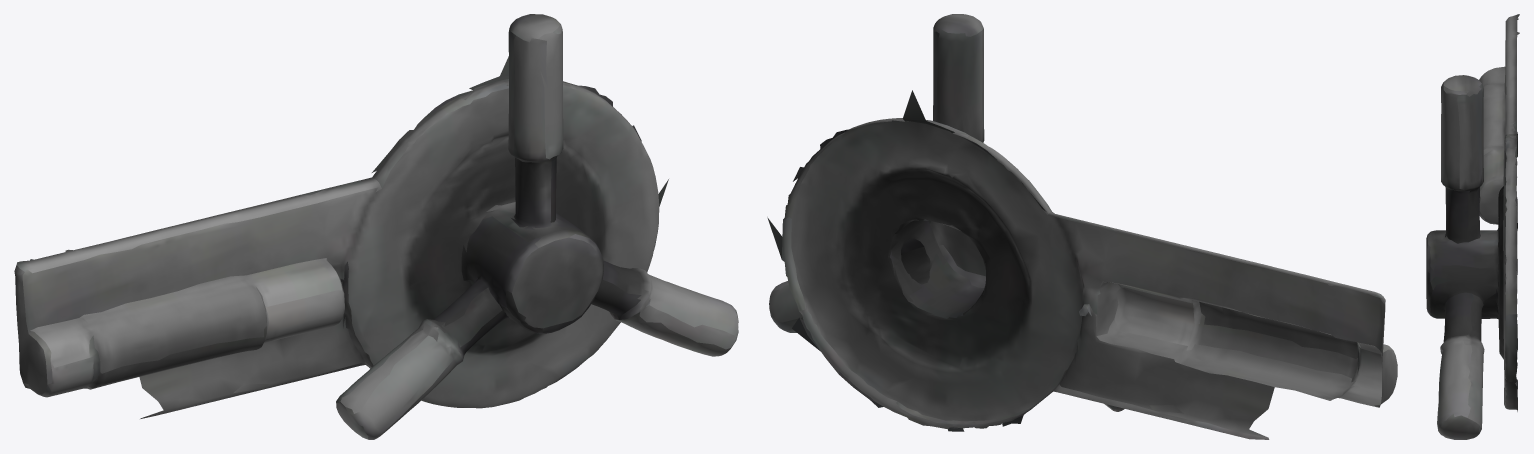
File: handle.glb
The picture shows the model from 3 angles, left to right: view 1: azimuth 30°, elevation 25°; view 2: azimuth 150°, elevation 25°; view 3: azimuth 270°, elevation 25°; orthographic projection. The views are drawn at different scales.
Visible parts, largest first — view 1: world; view 2: world; view 3: world.
Boxes of the visible parts, bbox=[...] form: world: bbox=[14, 14, 738, 439]; world: bbox=[767, 14, 1397, 439]; world: bbox=[1426, 14, 1519, 439].
Bounding box in the file's own units: 0.337 × 0.1918 × 0.0509.
1 material, 1 textured.
